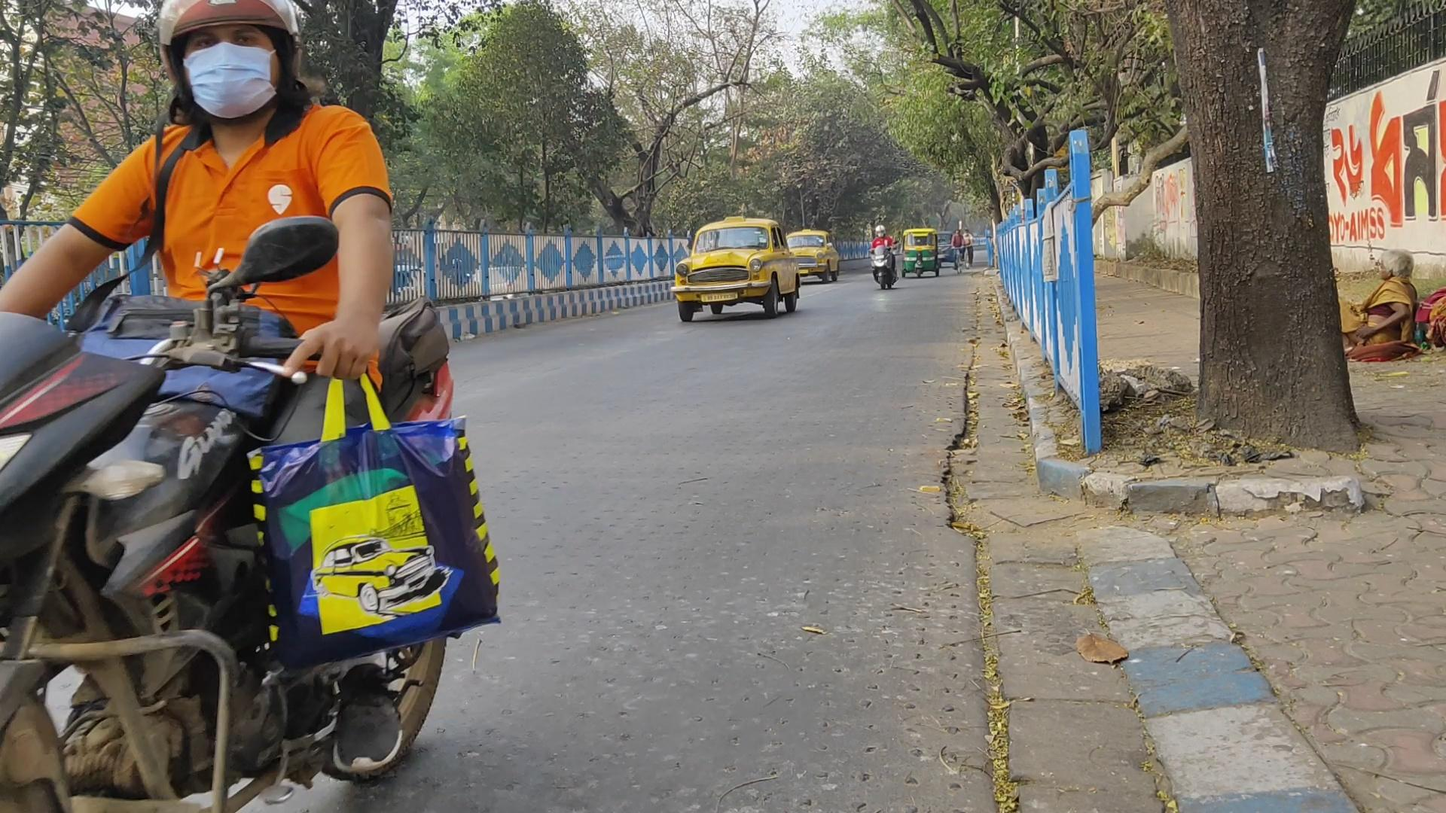Auto: (901, 227, 941, 281)
bike: (2, 2, 456, 813), (866, 222, 902, 291), (951, 229, 966, 275)
car: (673, 215, 801, 322), (787, 227, 840, 286)
